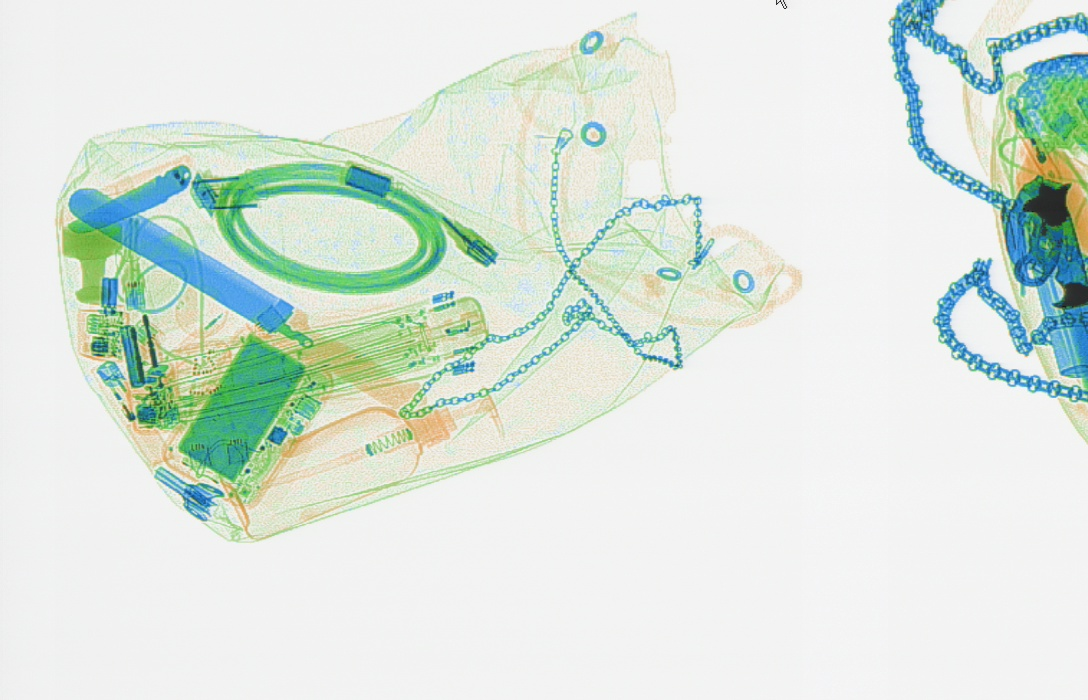knife: (65, 186, 425, 409), (1018, 174, 1085, 390), (65, 157, 195, 235), (1003, 176, 1066, 287)
lighter: (1003, 90, 1073, 213), (97, 358, 174, 462)
